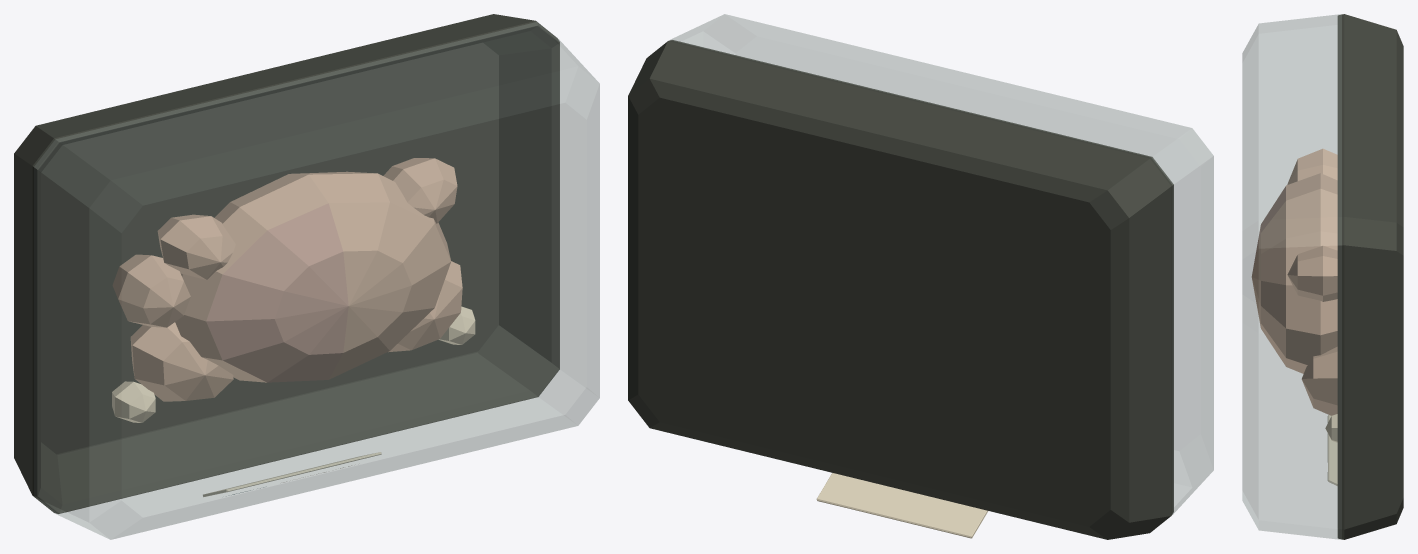
The model's file is turkey.glb.
The picture shows the model from 3 angles, left to right: view 1: azimuth 30°, elevation 25°; view 2: azimuth 150°, elevation 25°; view 3: azimuth 270°, elevation 25°; orthographic projection. The views are drawn at different scales.
Parts seen in each view (by area): view 1: turkey; view 2: turkey; view 3: turkey.
Boxes of the visible parts, left/top/right/bottom form: turkey: left=14, top=14, right=599, bottom=539; turkey: left=628, top=14, right=1213, bottom=539; turkey: left=1242, top=14, right=1403, bottom=539.
Bounding box in the file's own units: 0.22 × 0.164 × 0.068.
